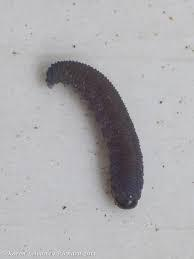Insects: (42, 56, 151, 214)
